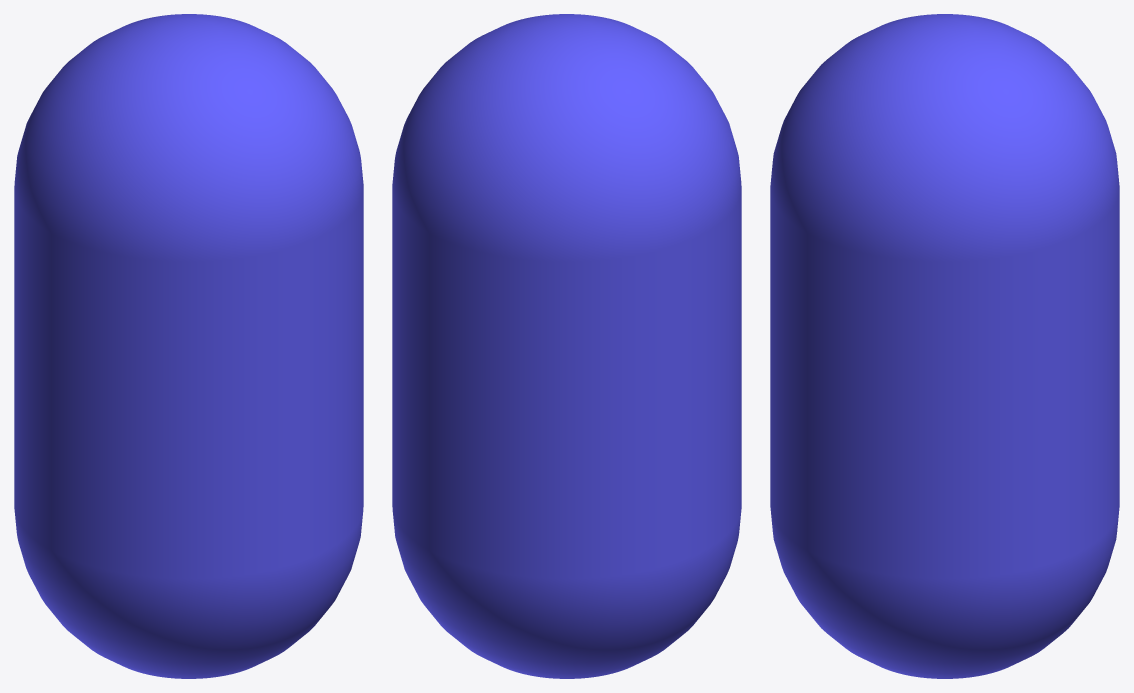
Rendered from Player_size.gltf.
3 renders of one model, left to right at view 1: azimuth 30°, elevation 25°; view 2: azimuth 150°, elevation 25°; view 3: azimuth 270°, elevation 25°, orthographic.
Parts seen in each view (by area): view 1: MeshInstance3D; view 2: MeshInstance3D; view 3: MeshInstance3D.
Boxes of the visible parts, <box> form: MeshInstance3D: <box>14,14,363,678</box>; MeshInstance3D: <box>392,14,741,678</box>; MeshInstance3D: <box>770,14,1119,678</box>.
Size of the model in its own units: 1 by 2 by 1.
